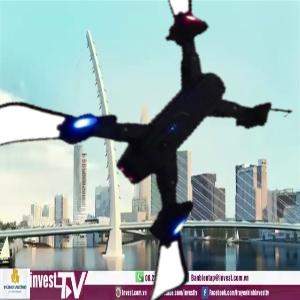drone: (3, 8, 296, 300)
